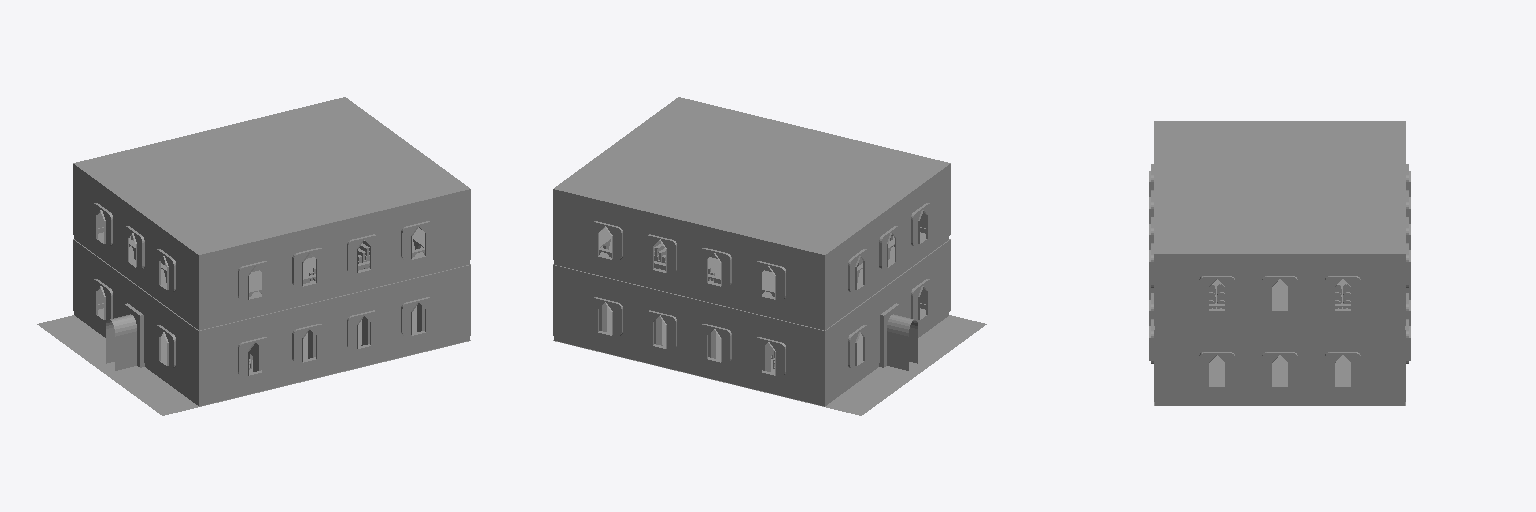
The model's file is monestary.obj.
The picture shows the model from 3 angles: view 1: azimuth 30°, elevation 25°; view 2: azimuth 150°, elevation 25°; view 3: azimuth 270°, elevation 25°; orthographic projection.
Parts seen in each view (by area): view 1: Plane.325_Plane.412, Plane.041_Plane.046, Plane.288_Plane.373, Plane.285_Plane.370, Plane.250_Plane.280, Plane.130_Plane.159, Plane.323_Plane.410, Plane.287_Plane.372, Plane.282_Plane.367, Plane.247_Plane.277, Plane.257_Plane.287, Plane.123_Plane.152 (+18 smaller); view 2: Plane.325_Plane.412, Plane.041_Plane.046, Plane.289_Plane.374, Plane.284_Plane.369, Plane.249_Plane.279, Plane.131_Plane.160, Plane.323_Plane.410, Plane.287_Plane.372, Plane.282_Plane.367, Plane.247_Plane.277, Plane.256_Plane.286, Plane.124_Plane.153 (+19 smaller); view 3: Plane.325_Plane.412, Plane.286_Plane.371, Plane.283_Plane.368, Plane.248_Plane.278, Plane.132_Plane.161, Plane.041_Plane.046, Plane.253_Plane.283, Plane.252_Plane.282, Plane.128_Plane.157, Plane.127_Plane.156, Plane.312_Plane.399, Plane.297_Plane.384 (+4 smaller).
Boxes of the visible parts, x1,y1,x2,y2 form: Plane.325_Plane.412: [73, 97, 469, 254]; Plane.041_Plane.046: [37, 257, 470, 415]; Plane.288_Plane.373: [217, 193, 452, 269]; Plane.285_Plane.370: [217, 269, 452, 345]; Plane.250_Plane.280: [216, 250, 452, 325]; Plane.130_Plane.159: [216, 326, 452, 401]; Plane.323_Plane.410: [106, 297, 146, 370]; Plane.287_Plane.372: [83, 171, 187, 265]; Plane.282_Plane.367: [83, 247, 187, 341]; Plane.247_Plane.277: [83, 228, 188, 322]; Plane.257_Plane.287: [188, 248, 216, 311]; Plane.123_Plane.152: [188, 324, 216, 387]; Plane.325_Plane.412: [554, 97, 950, 254]; Plane.041_Plane.046: [553, 257, 986, 415]; Plane.289_Plane.374: [571, 193, 806, 269]; Plane.284_Plane.369: [571, 269, 806, 345]; Plane.249_Plane.279: [571, 250, 807, 325]; Plane.131_Plane.160: [571, 326, 807, 401]; Plane.323_Plane.410: [877, 297, 917, 370]; Plane.287_Plane.372: [836, 171, 940, 265]; Plane.282_Plane.367: [836, 247, 940, 341]; Plane.247_Plane.277: [835, 228, 940, 322]; Plane.256_Plane.286: [807, 248, 835, 311]; Plane.124_Plane.153: [807, 324, 835, 387]; Plane.325_Plane.412: [1154, 121, 1405, 253]; Plane.286_Plane.371: [1175, 254, 1384, 272]; Plane.283_Plane.368: [1175, 330, 1384, 348]; Plane.248_Plane.278: [1175, 311, 1384, 329]; Plane.132_Plane.161: [1175, 387, 1384, 405]; Plane.041_Plane.046: [1154, 279, 1405, 405]; Plane.253_Plane.283: [1385, 254, 1405, 310]; Plane.252_Plane.282: [1154, 254, 1174, 310]; Plane.128_Plane.157: [1154, 330, 1174, 386]; Plane.127_Plane.156: [1385, 330, 1405, 386]; Plane.312_Plane.399: [1259, 273, 1300, 310]; Plane.297_Plane.384: [1259, 349, 1300, 386].
Bounding box in the file's own units: 26.26 × 12.19 × 19.